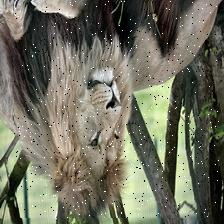Lion: (15, 0, 220, 217)
